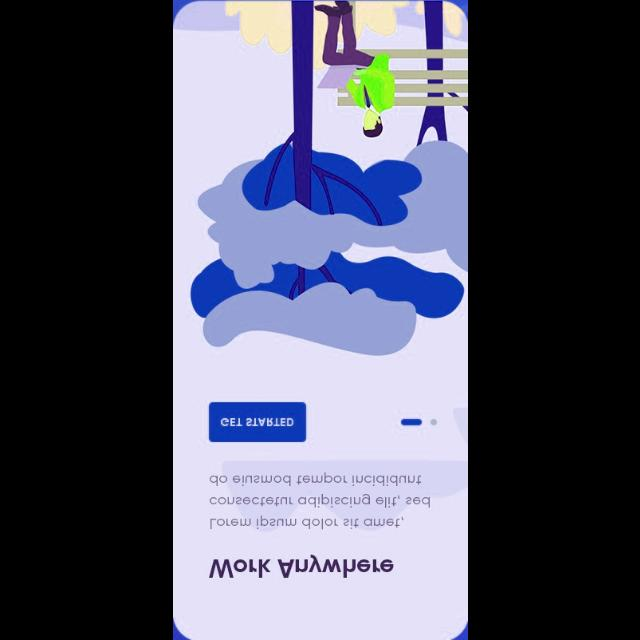backgroundimage: (174, 0, 466, 638)
image: (173, 0, 467, 356)
pageindicator: (399, 418, 436, 424)
text: (208, 470, 430, 530), (207, 554, 393, 578)
textbutton: (208, 402, 306, 442)
